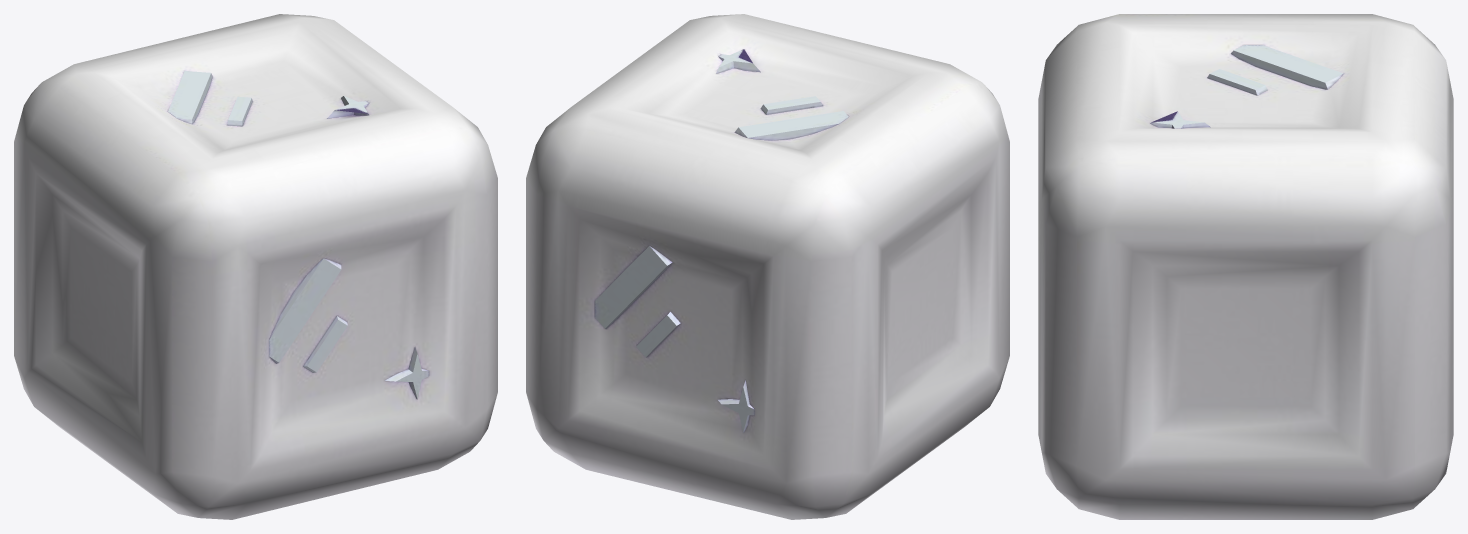
File: buz1.glb
3 renders of one model, left to right at view 1: azimuth 30°, elevation 25°; view 2: azimuth 150°, elevation 25°; view 3: azimuth 270°, elevation 25°, orthographic. The views are drawn at different scales.
Parts seen in each view (by area): view 1: buz1; view 2: buz1; view 3: buz1.
Part boxes in pixels (box(x1,y1,x2,y2)): buz1: box(14, 14, 497, 519); buz1: box(526, 14, 1009, 519); buz1: box(1038, 14, 1453, 519).
Bounding box in the file's own units: 1.51 × 1.51 × 1.51.
Materials: 1 (1 with a texture image).
